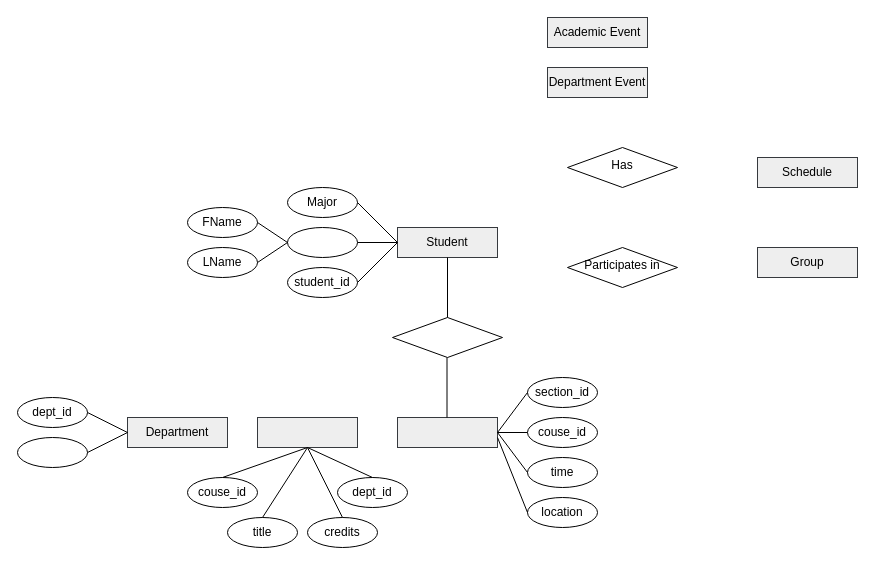
Image size: 875x565. Some labels were removed from this diagram. The box of each missing label's shape, as (x1, y1, x2, y2) in pixels:
Couse: (256, 416, 358, 448)
dept_name: (16, 436, 88, 468)
Enrolls: (392, 316, 502, 358)
Name: (286, 226, 358, 258)
Section: (396, 416, 498, 448)
